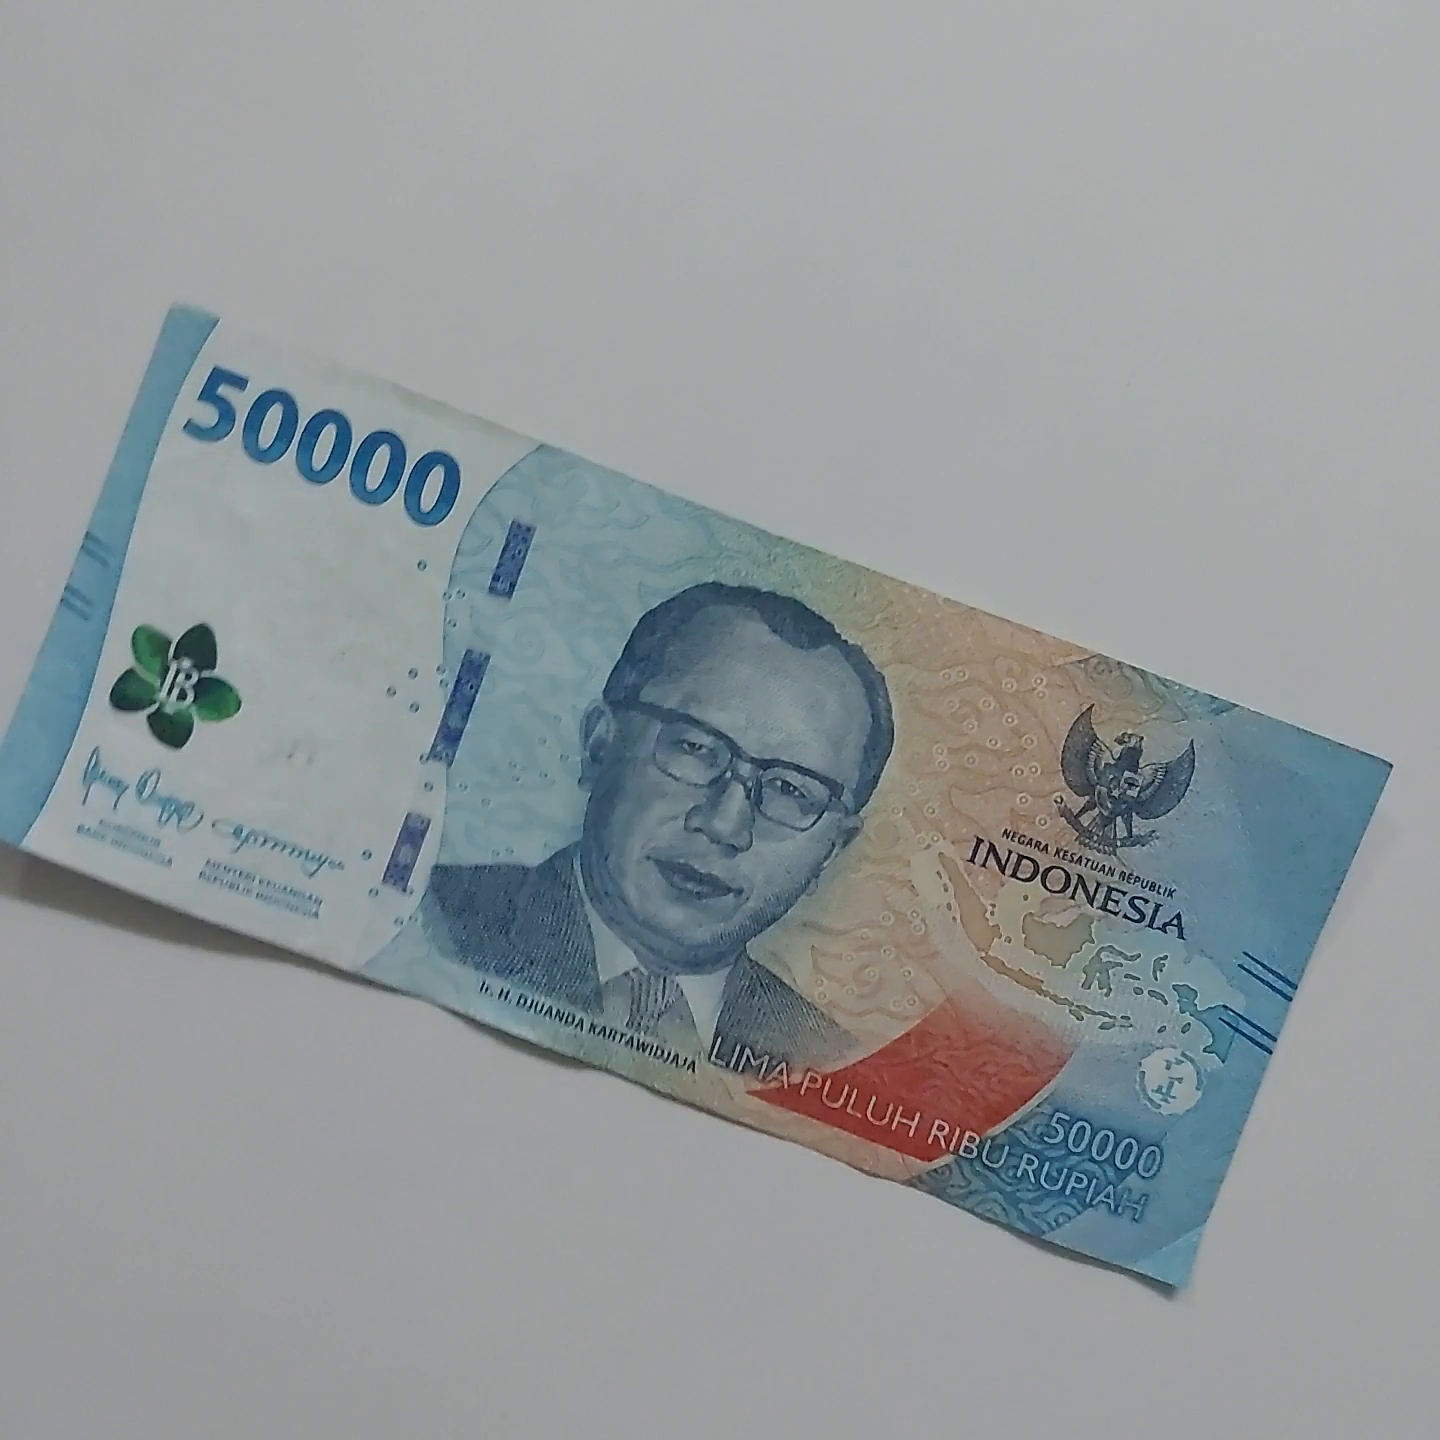50k: (0, 298, 1440, 1280)
